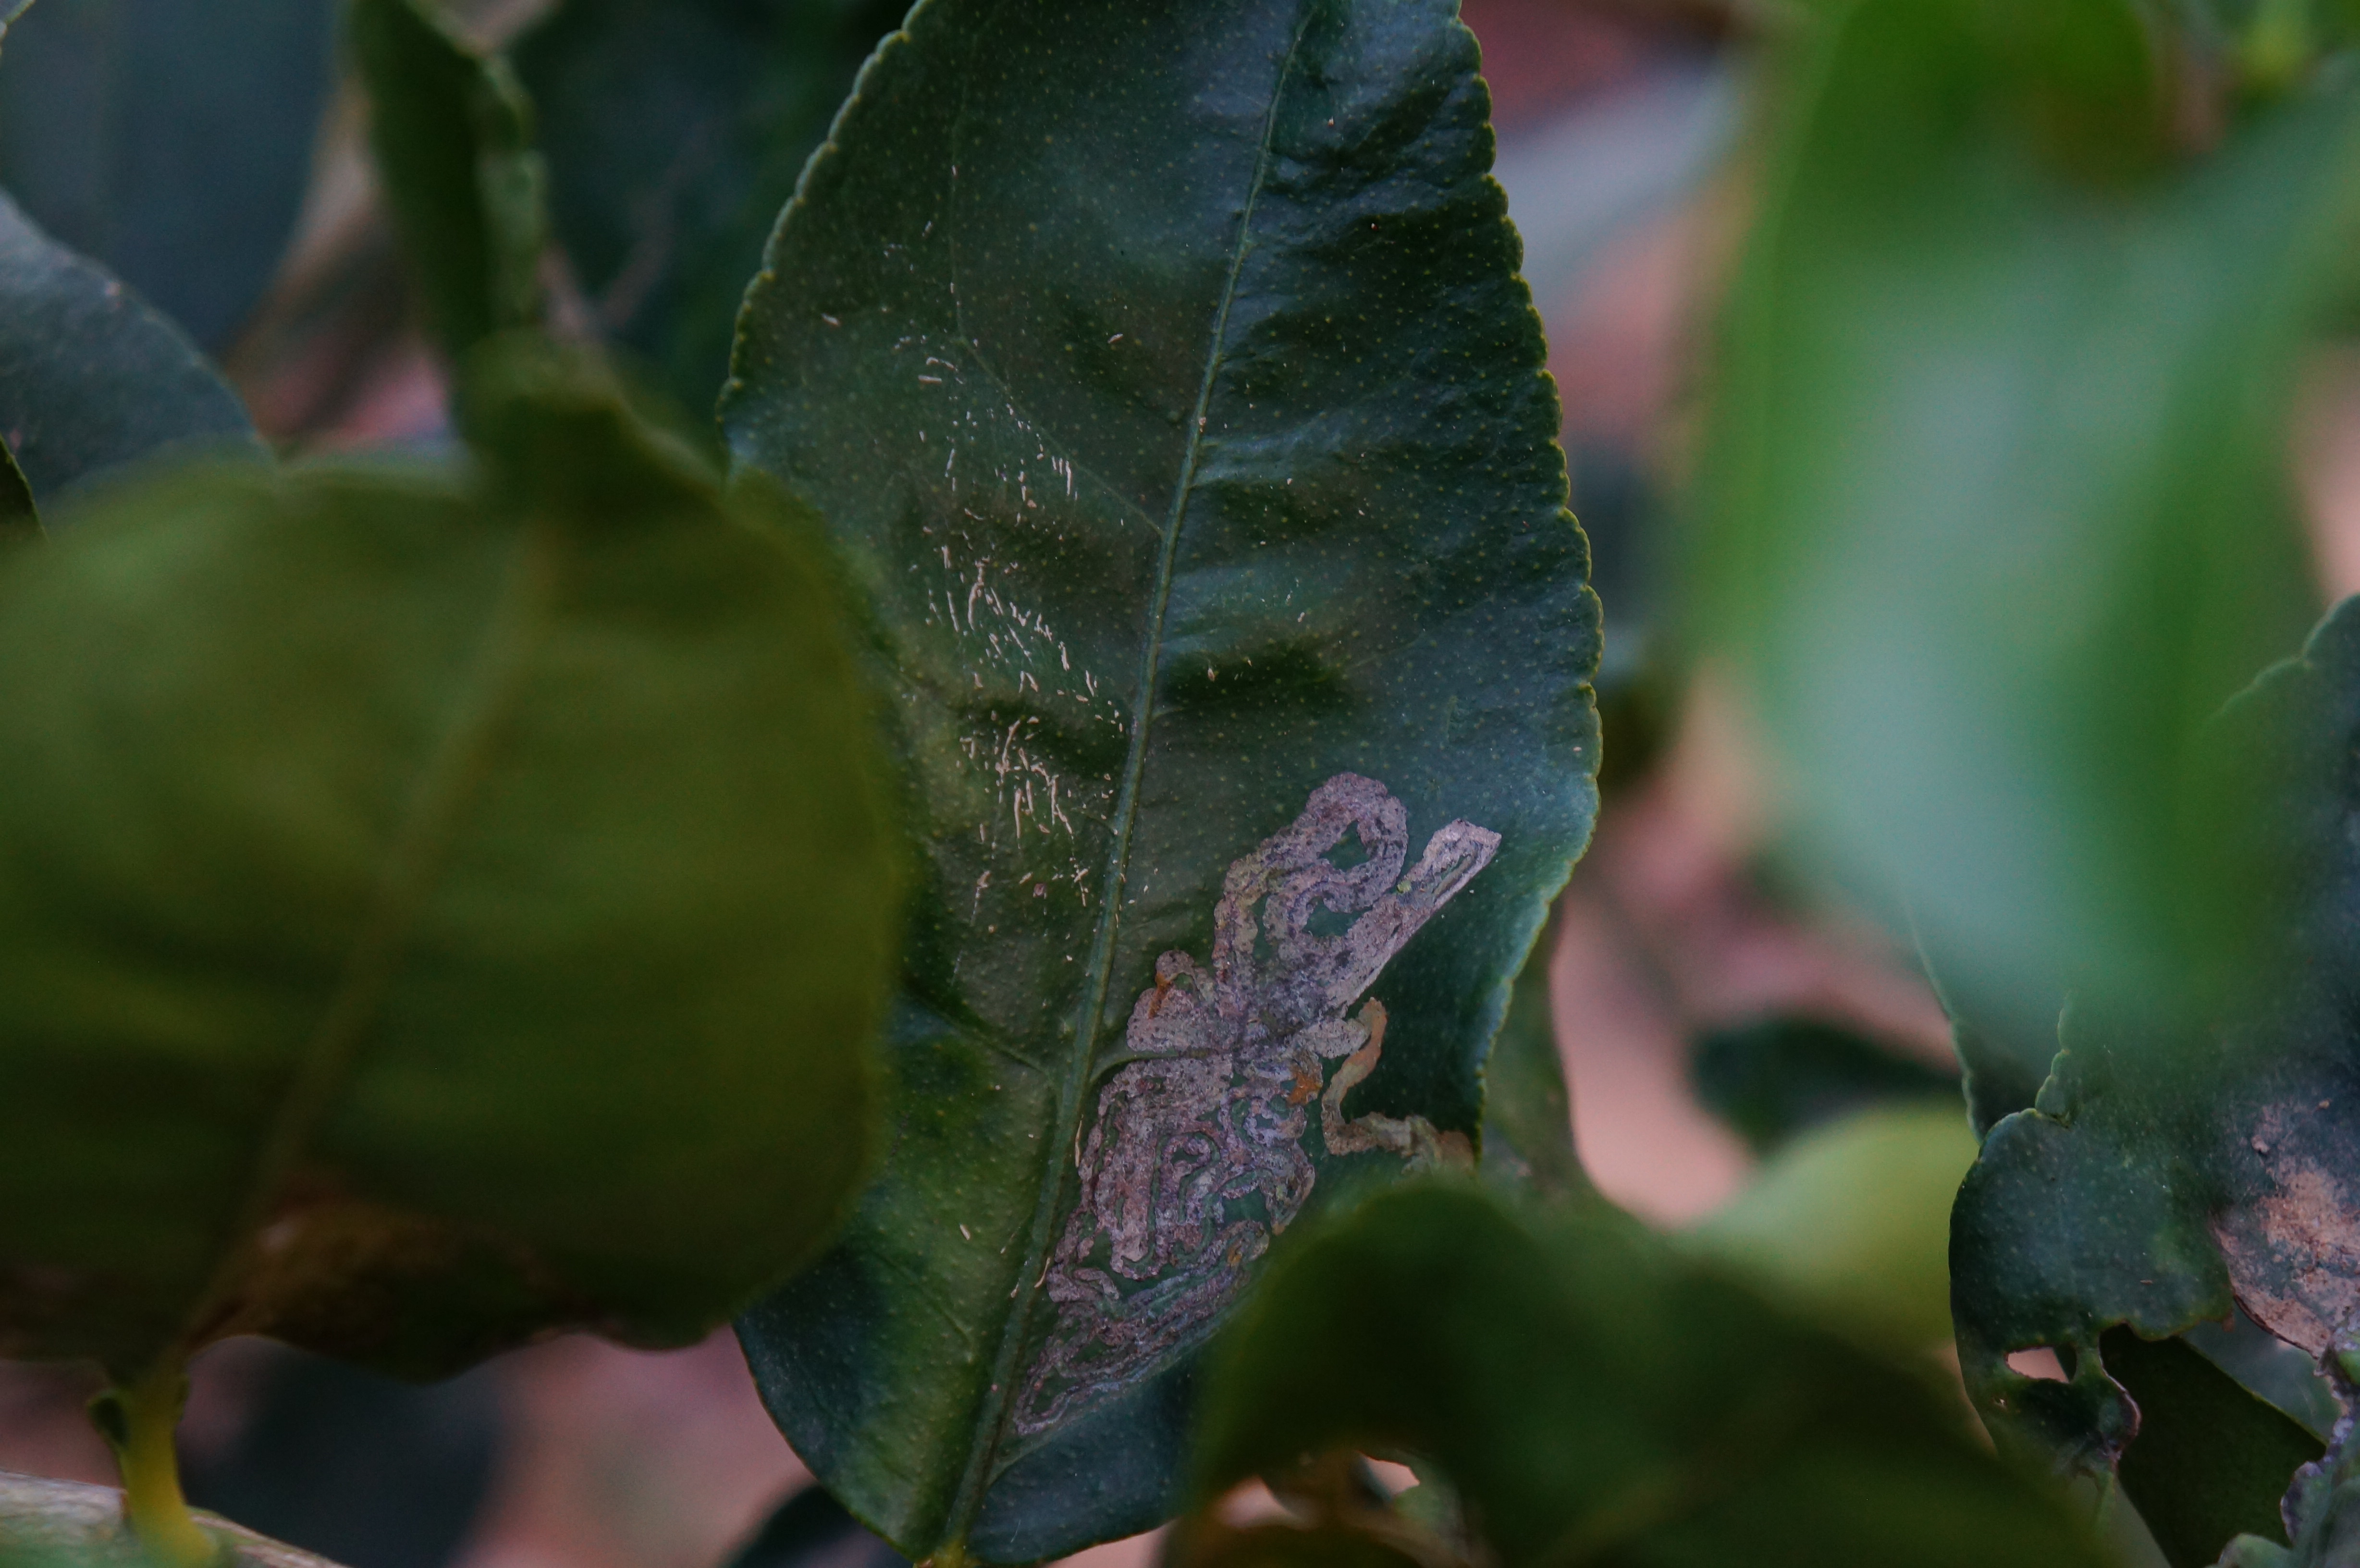damage: (1002, 758, 1580, 1456)
